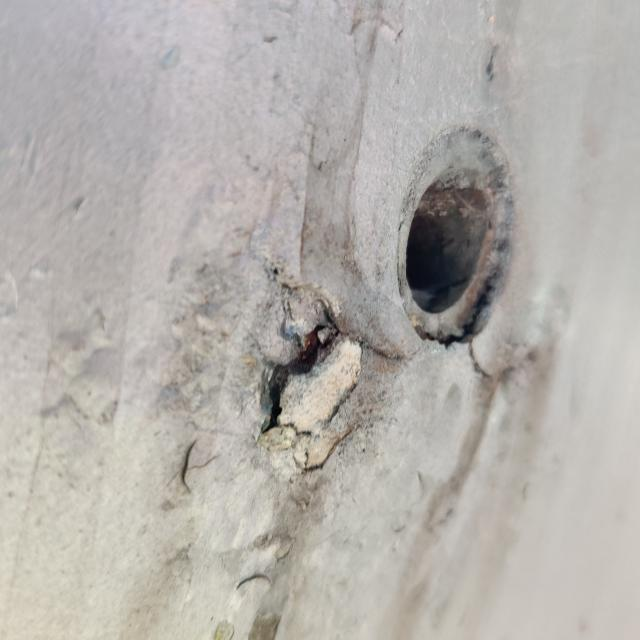crack: (230, 277, 412, 480)
